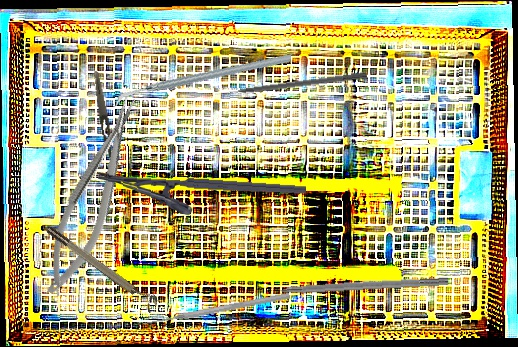Chopper: (114, 23, 292, 138)
Dressing Forceps: (91, 70, 120, 183)
Fixation Ring: (44, 219, 161, 314)
Hook Surgical: (258, 275, 449, 296)
Needle Holder: (30, 90, 157, 303), (95, 170, 307, 224)
Pusher: (142, 290, 291, 329), (214, 70, 367, 98)
